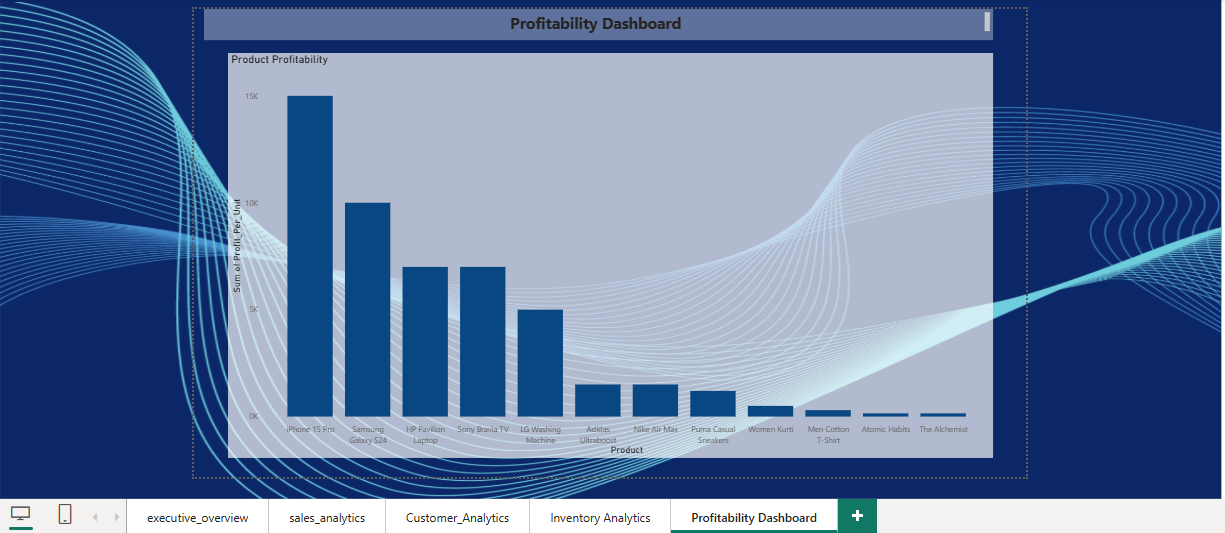

Layout of this report page (visuals, bound fields, positions):
{"tool":"powerbi","page":{"name":"Profitability Dashboard","canvas":[1280,720],"ordinal":4},"visuals":[{"type":"clusteredColumnChart","title":"Product Profitability","fields":{"Category":["product_profit.Product"],"Y":["Sum(product_profit.Profit_Per_Unit)"]},"box":[51.7,68.3,1176.7,623.3],"z":0},{"type":"textbox","box":[15.2,0,842.4,47.5],"z":1000}]}

Visuals, with their boxes on the page's 1280x720 design canvas (x1, y1, x2, y2). These are canvas units, not pixel positions in the 1225x533 screenshot, which may show the page scaled, cropped or inside an application window:
"Product Profitability" clusteredColumnChart: 52/68/1228/692
textbox: 15/0/858/48
